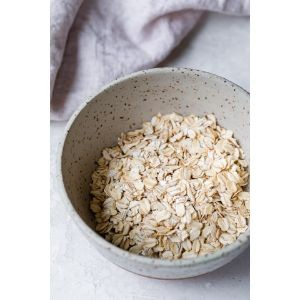oat_brain food: (117, 111, 233, 229)
